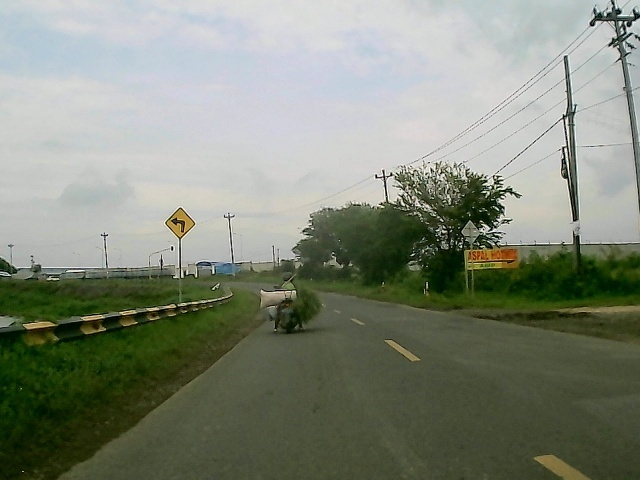Tikungan tajam ke kiri: (161, 206, 199, 241)
